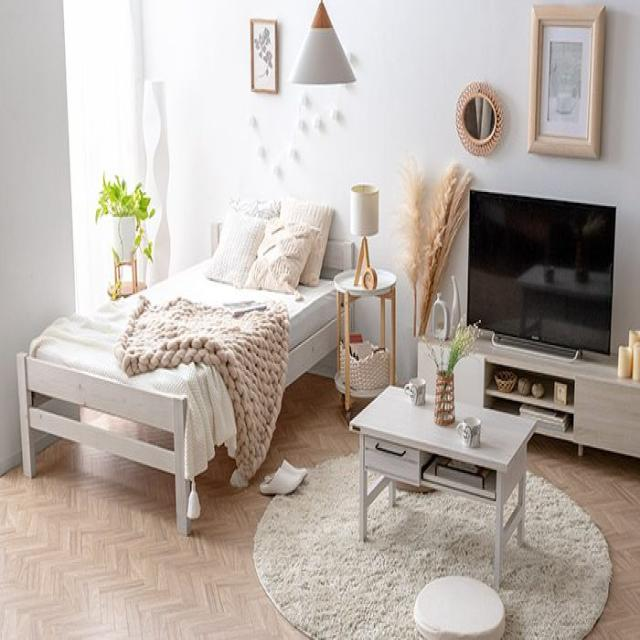white bed: (69, 196, 344, 516)
